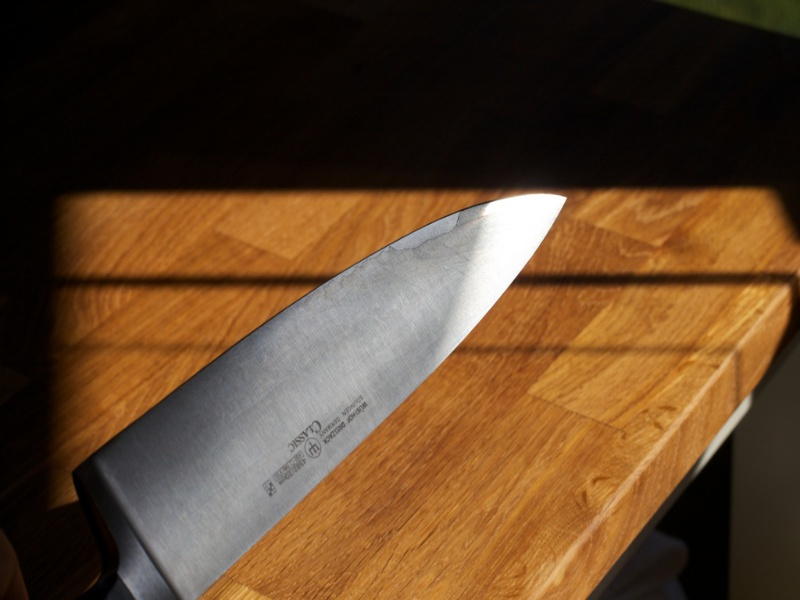knife: (65, 192, 568, 595)
